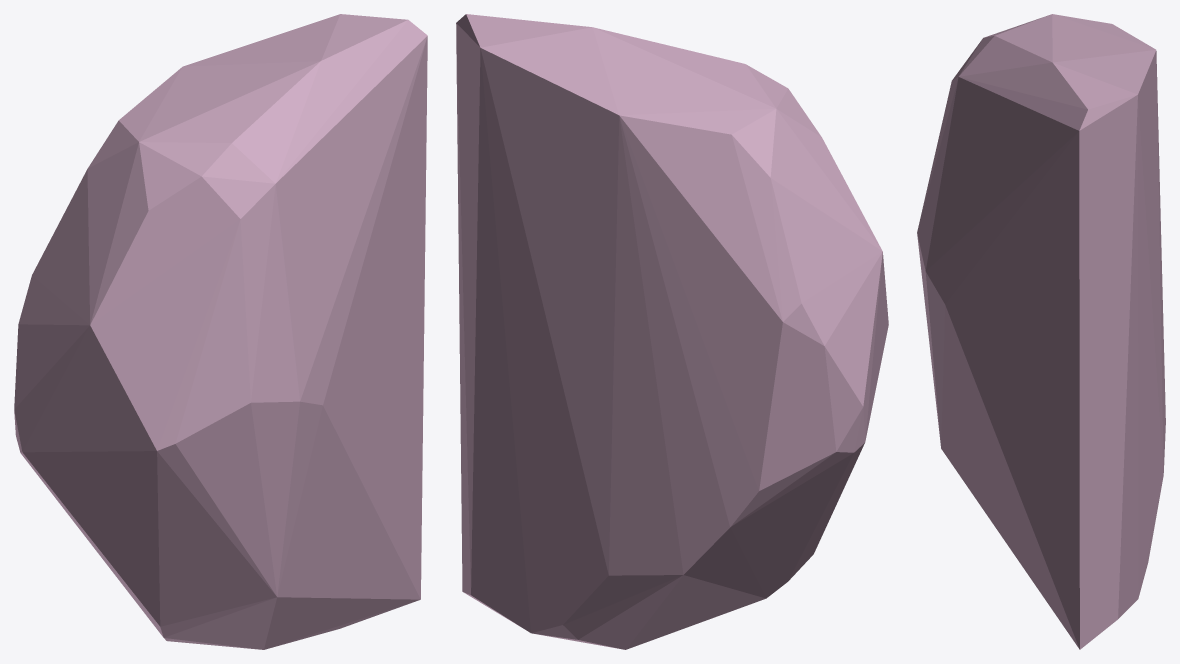
The model's file is food_prepared_croissant_b01.glb.
3 views of the same model, side by side, from view 1: azimuth 30°, elevation 25°; view 2: azimuth 150°, elevation 25°; view 3: azimuth 270°, elevation 25° (orthographic). The views are drawn at different scales.
Parts seen in each view (by area): view 1: geometry_0; view 2: geometry_0; view 3: geometry_0.
Boxes of the visible parts, x1,y1,x2,y2 form: geometry_0: (14,14,427,649); geometry_0: (456,14,888,649); geometry_0: (917,14,1165,649).
Size of the model in its own units: 0.3359 by 0.4648 by 0.1909.
